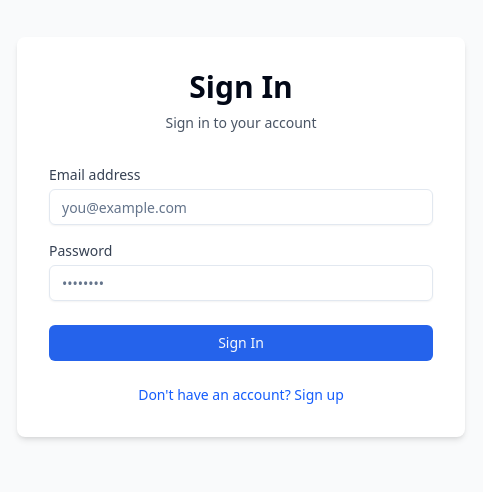
Test: LoginForm › clears error when switching between sign in and sign up
This screenshot has width=483, height=492.
Step 1. Type "test@example.com" into the field labelled "Email address" → [241, 207], box [49,189,433,225]
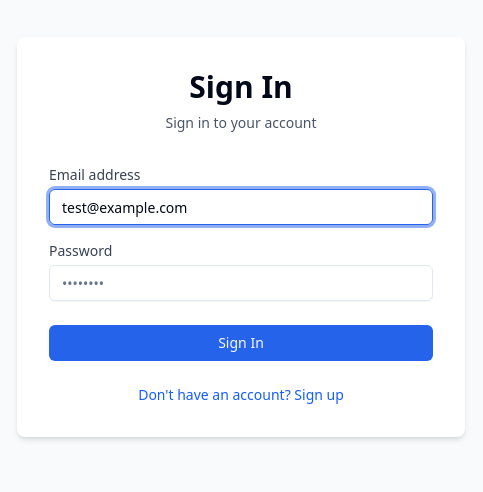
Step 2. Type "wrongpassword" into the password field labelled "Password" → [241, 283], box [49,265,433,301]
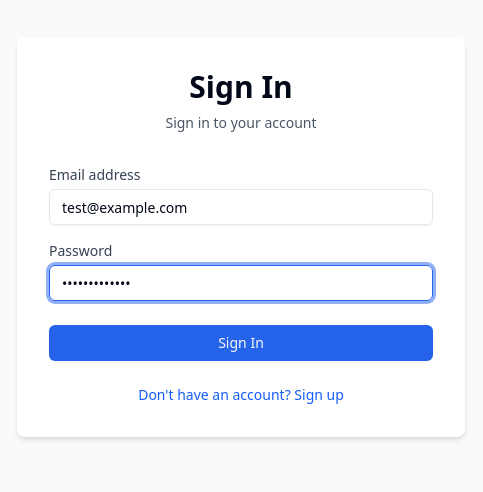
Step 3. Click the button "Sign In" → [241, 343], box [49,325,433,361]
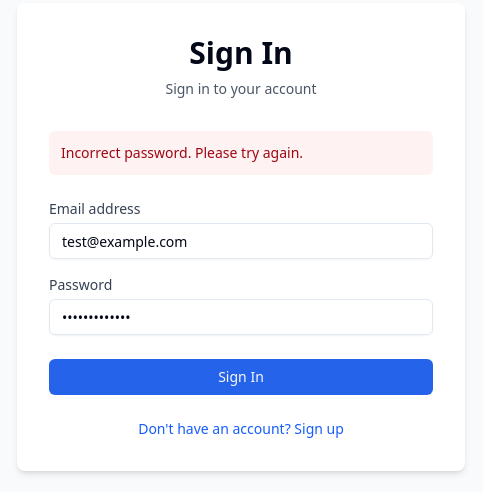
Expected: the text "Incorrect password. Please try again." is shown, [49,131,433,175]
Switch to sign up
Step 4. Click the button "Don't have an account? Sign up" → [241, 429], box [138,419,344,439]
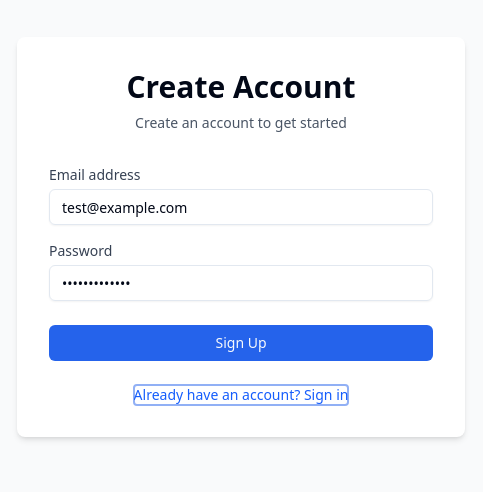
Expected: the text "Incorrect password. Please try again." is gone
